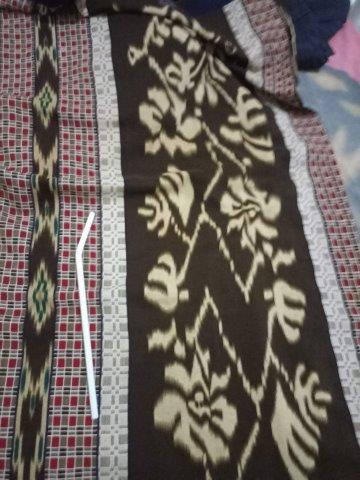sedotan: (75, 212, 98, 419)
